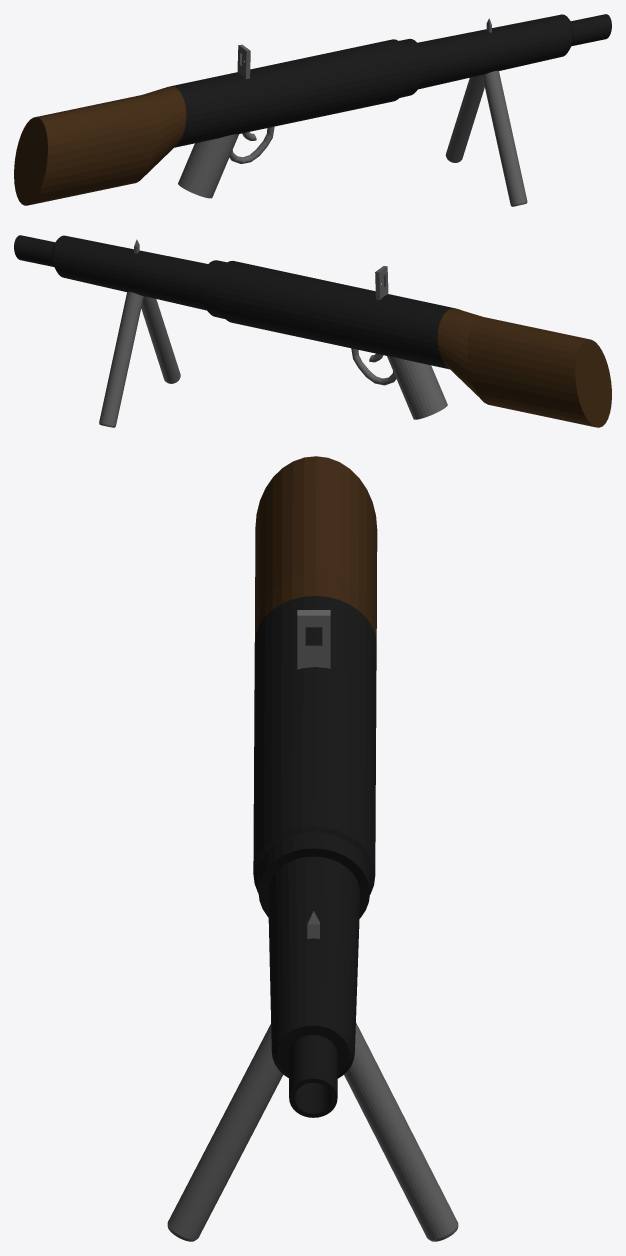
File: Gun.fbx
3 renders of one model, top to bottom at view 1: azimuth 30°, elevation 25°; view 2: azimuth 150°, elevation 25°; view 3: azimuth 270°, elevation 25°, orthographic. The views are drawn at different scales.
Parts seen in each view (by area): view 1: body, body.001, Tripod2.001, triggerHandle.001, Tripod2, triggerHandle, ironsight2; view 2: body, body.001, Tripod2, triggerHandle.001, Tripod2.001, triggerHandle, ironsight2; view 3: body, body.001, Tripod2, Tripod2.001, ironsight2.
Part boxes in pixels (<box>): body: <box>171,14,611,147</box>; body.001: <box>14,86,186,205</box>; Tripod2.001: <box>482,70,527,206</box>; triggerHandle.001: <box>178,134,238,198</box>; Tripod2: <box>445,75,484,162</box>; triggerHandle: <box>229,126,274,163</box>; ironsight2: <box>237,44,250,79</box>; body: <box>14,235,454,369</box>; body.001: <box>437,308,611,427</box>; Tripod2: <box>99,292,143,427</box>; triggerHandle.001: <box>387,356,447,419</box>; Tripod2.001: <box>141,296,180,383</box>; triggerHandle: <box>351,348,396,385</box>; ironsight2: <box>375,266,388,299</box>; body: <box>253,596,376,1117</box>; body.001: <box>254,456,377,643</box>; Tripod2: <box>344,1023,458,1241</box>; Tripod2.001: <box>167,1024,283,1241</box>; ironsight2: <box>297,610,330,669</box>.
Bounding box in the file's own units: 861 × 275 × 185.
